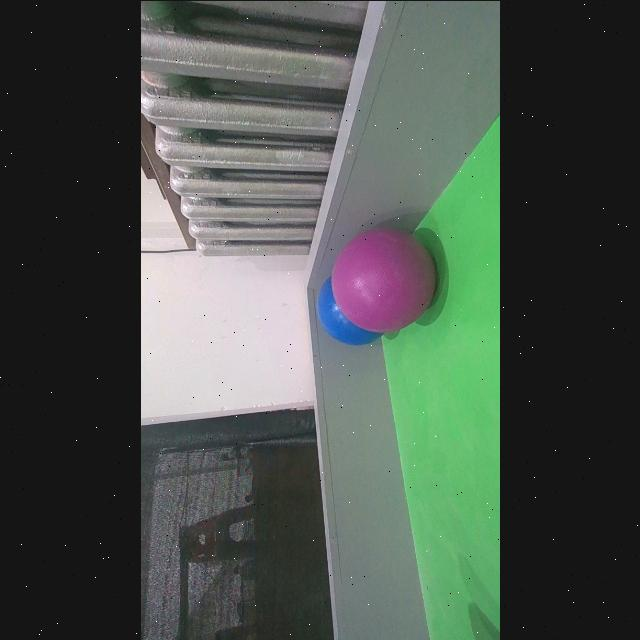B: (316, 272, 384, 344)
P: (332, 228, 436, 332)
